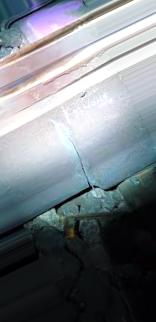tracks_fault: (74, 166, 107, 211)
